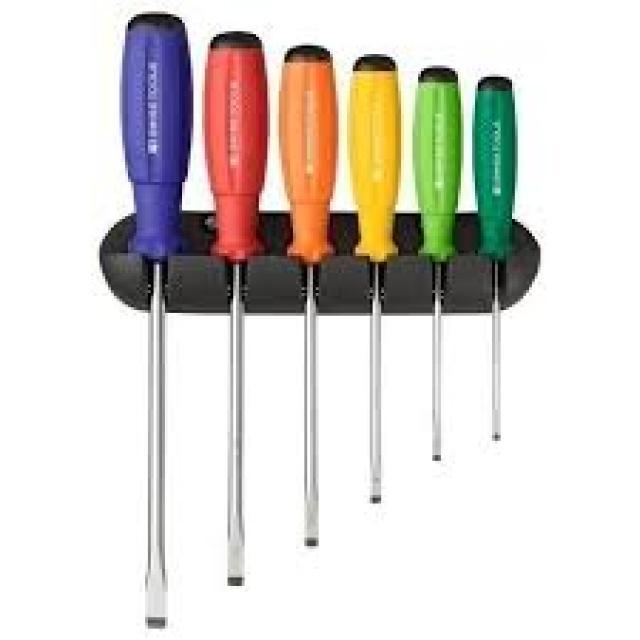screwdriver: (120, 12, 194, 638), (194, 29, 274, 584), (277, 40, 343, 549), (342, 51, 406, 521), (405, 58, 465, 468), (466, 68, 524, 461)
